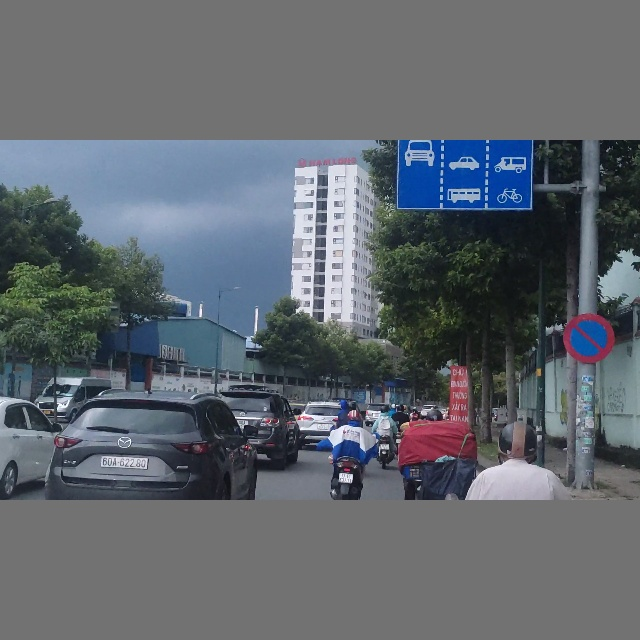P.131a: (562, 314, 614, 363)
R.415a: (398, 140, 531, 209)
